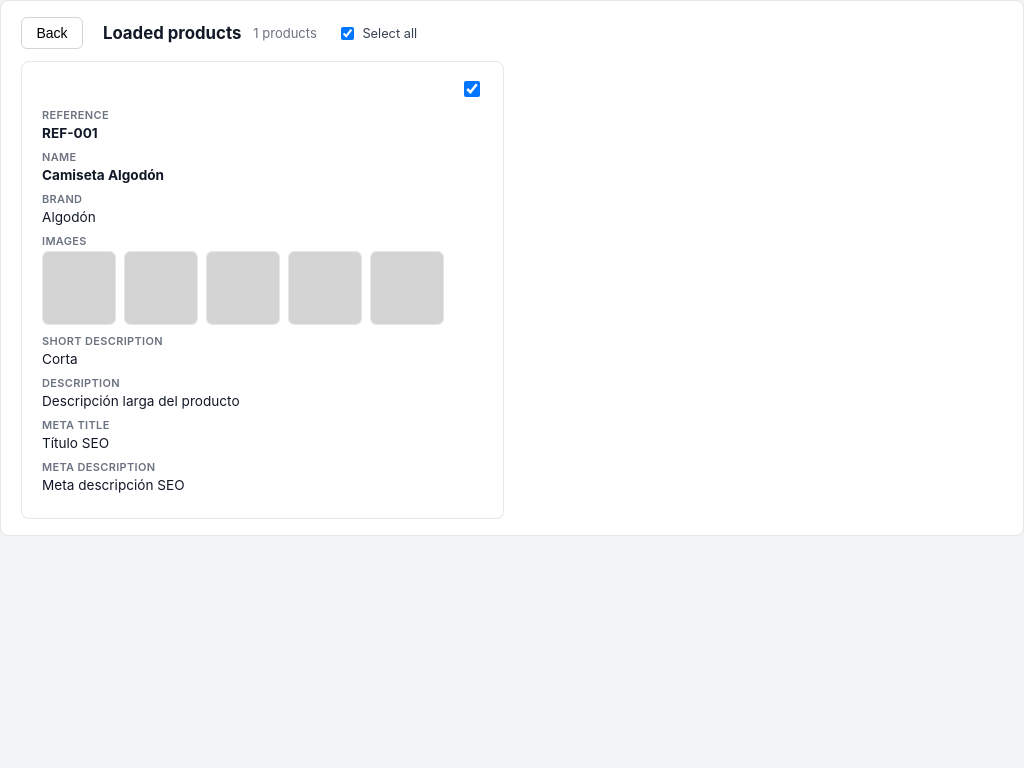
Test case: ProductsViewPage › keeps all product values when saving with no changes in the editor
Click the button "Camiseta Algodón": click(40, 80) [21,61,504,519]
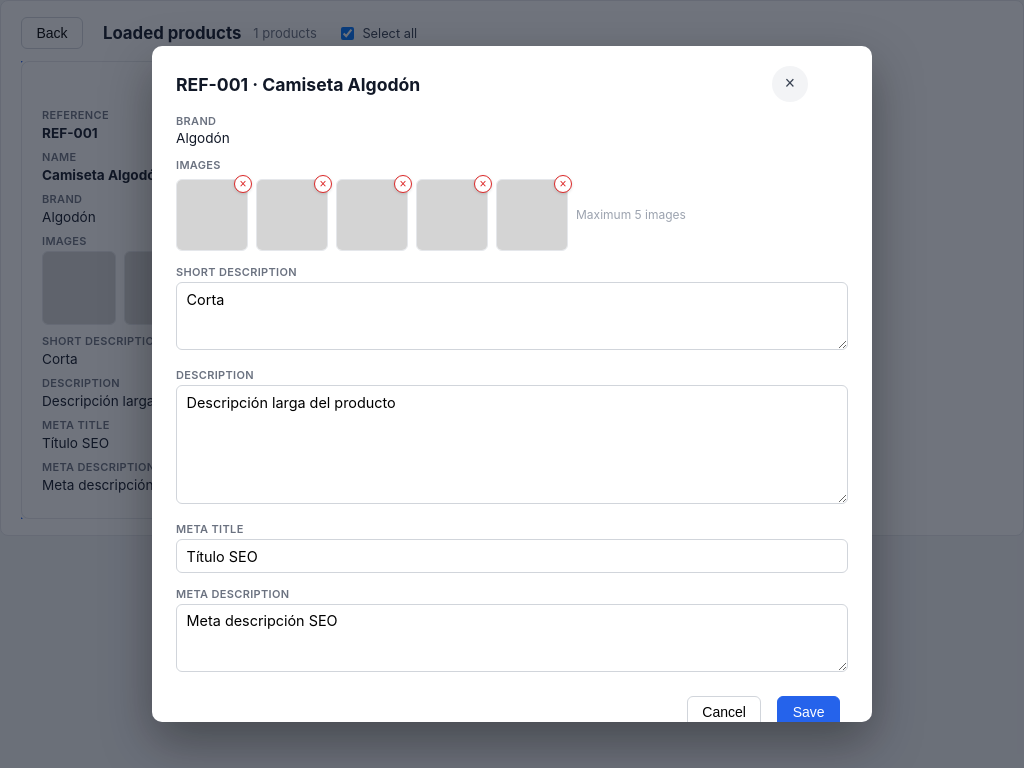
Click the button "Save": click(809, 712) [777,696,840,728]
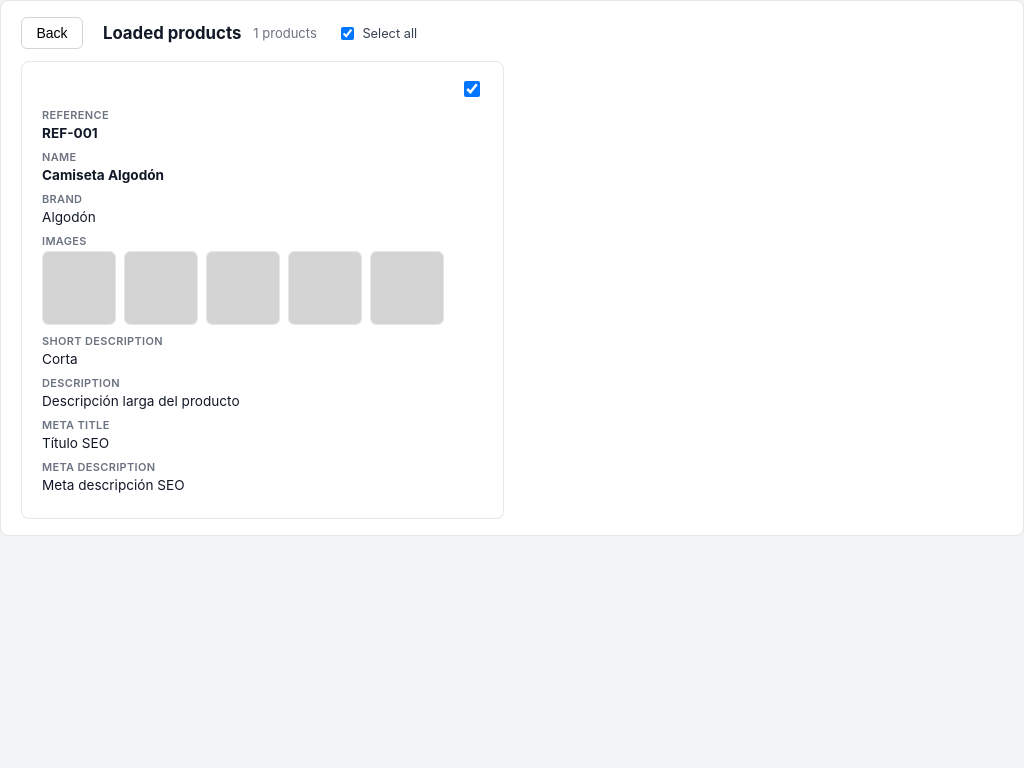
Check: the text "Camiseta Algodón" is shown, box [42,167,164,183]
Check: the dialog is gone
